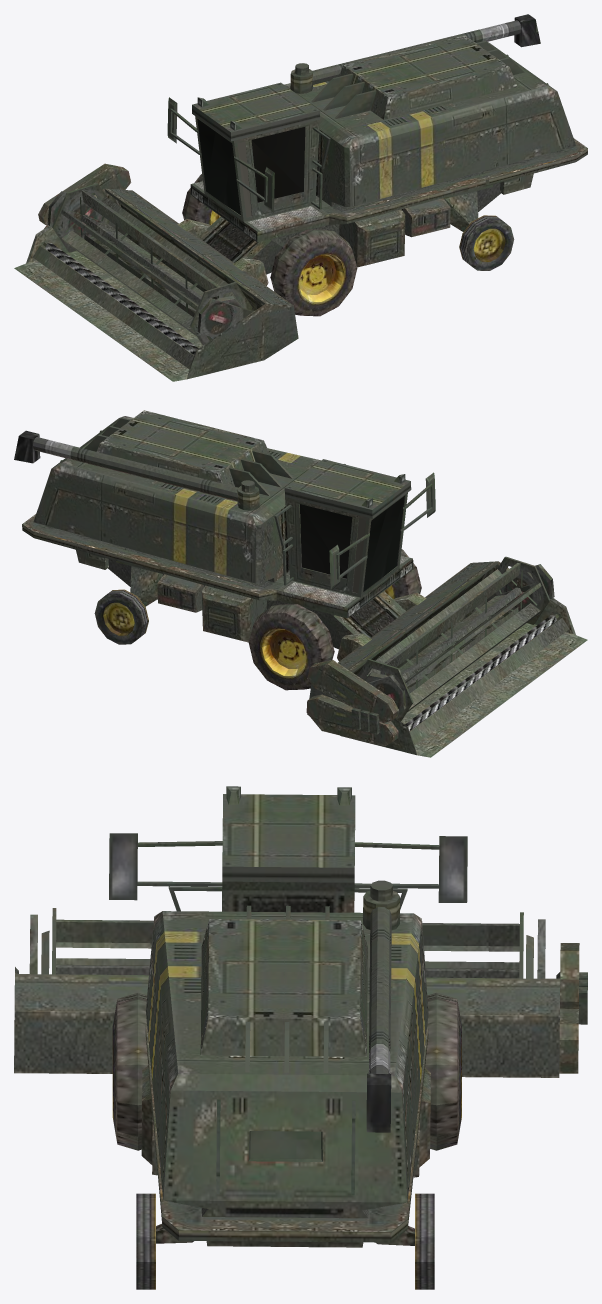
The picture shows the model from 3 angles, top to bottom: view 1: azimuth 30°, elevation 25°; view 2: azimuth 150°, elevation 25°; view 3: azimuth 270°, elevation 25°; orthographic projection. The views are drawn at different scales.
Parts seen in each view (by area): view 1: ss; view 2: ss; view 3: ss.
Part boxes in pixels (box(x1,y1,x2,y2)): ss: box(14, 14, 587, 381); ss: box(14, 410, 587, 757); ss: box(14, 786, 587, 1289).
Bounding box in the file's own units: 765 × 288 × 477.
